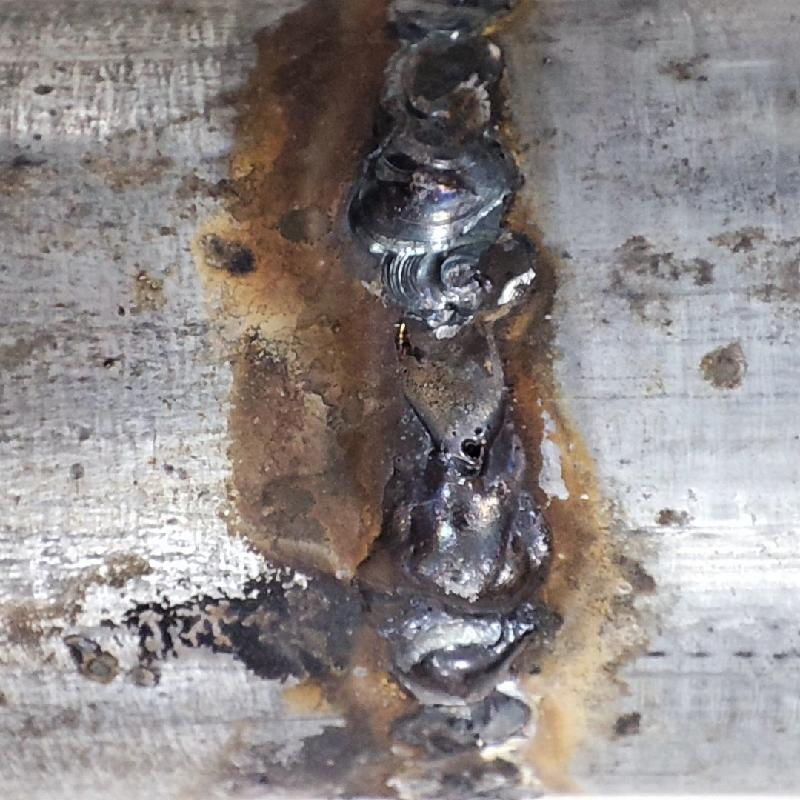Not_fully_soldered: (382, 254, 513, 471)
Surface_pores: (443, 420, 495, 467)
Weld: (377, 467, 541, 705)
wrong_size: (361, 1, 521, 252)
